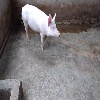heo: (19, 2, 63, 51)
